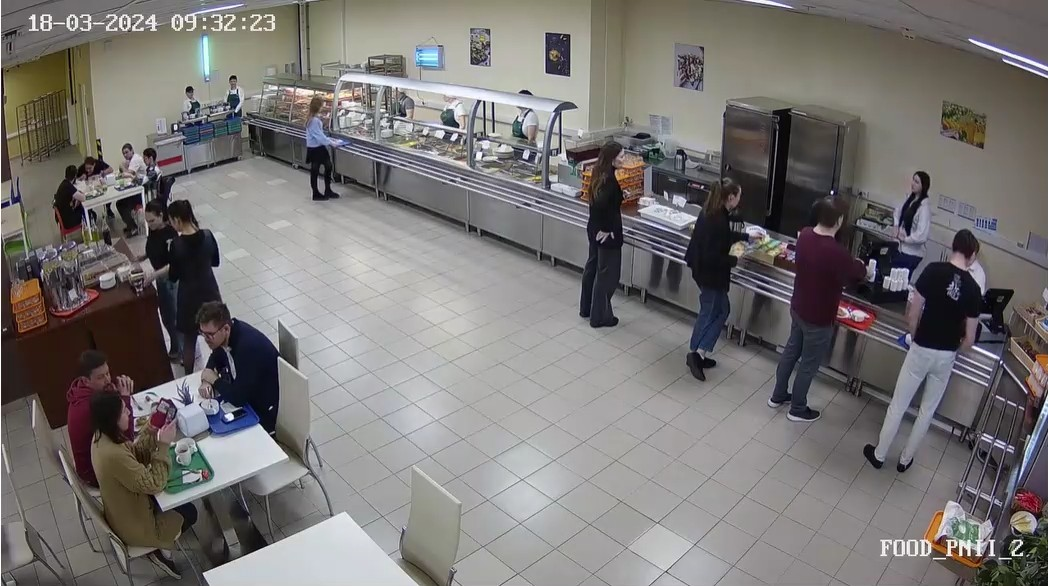Na_Kasse: (781, 207, 1012, 472), (738, 186, 874, 425), (659, 163, 752, 386), (771, 298, 782, 301)
Ne_v_Ocheredi: (156, 193, 257, 315), (134, 196, 202, 285)
Personal: (896, 161, 935, 266), (217, 67, 255, 128), (433, 86, 472, 135), (509, 97, 546, 148), (174, 76, 207, 129)
Vybiraet: (579, 131, 633, 334), (293, 92, 346, 207)
Za_Stolom: (85, 389, 177, 546), (189, 298, 279, 431), (54, 346, 114, 469), (47, 166, 82, 237), (112, 131, 144, 187), (74, 144, 114, 183), (137, 146, 164, 189)
